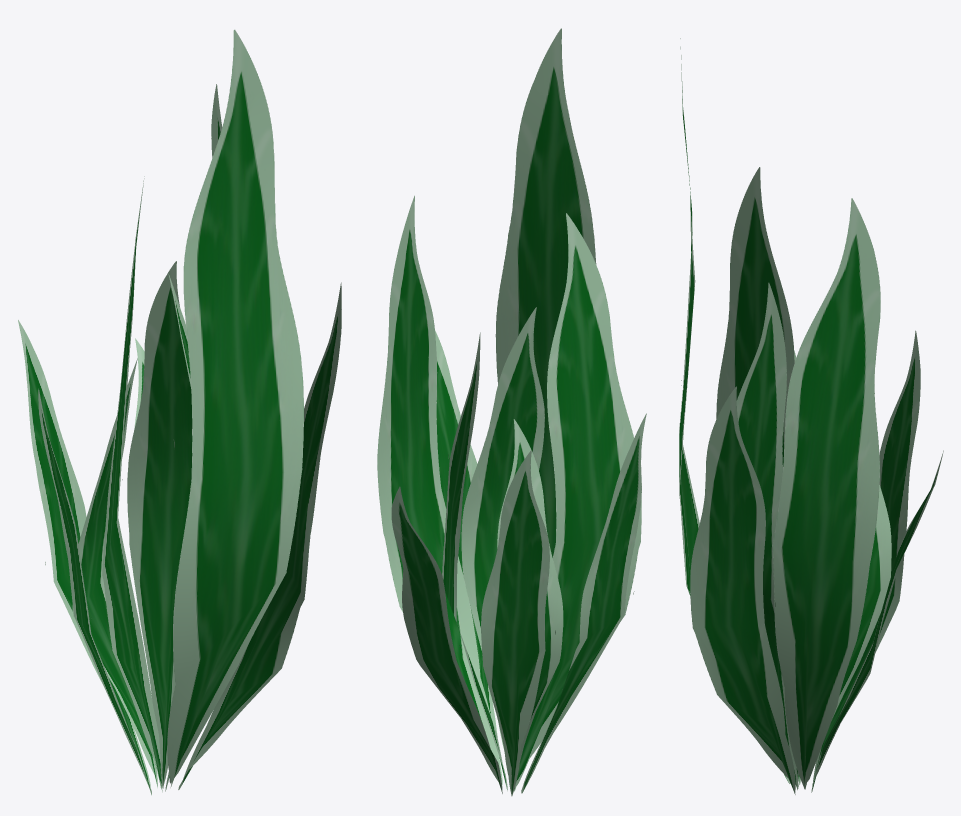
Rendered from sword_plant.fbx.
3 renders of one model, left to right at view 1: azimuth 30°, elevation 25°; view 2: azimuth 150°, elevation 25°; view 3: azimuth 270°, elevation 25°, orthographic. The views are drawn at different scales.
Parts seen in each view (by area): view 1: kılıç; view 2: kılıç; view 3: kılıç.
Part boxes in pixels (x1=…): kılıç: x1=18, y1=29, x2=341, y2=794; kılıç: x1=377, y1=28, x2=646, y2=796; kılıç: x1=679, y1=38, x2=943, y2=794.
Bounding box in the file's own units: 36.42 × 101 × 31.11.
